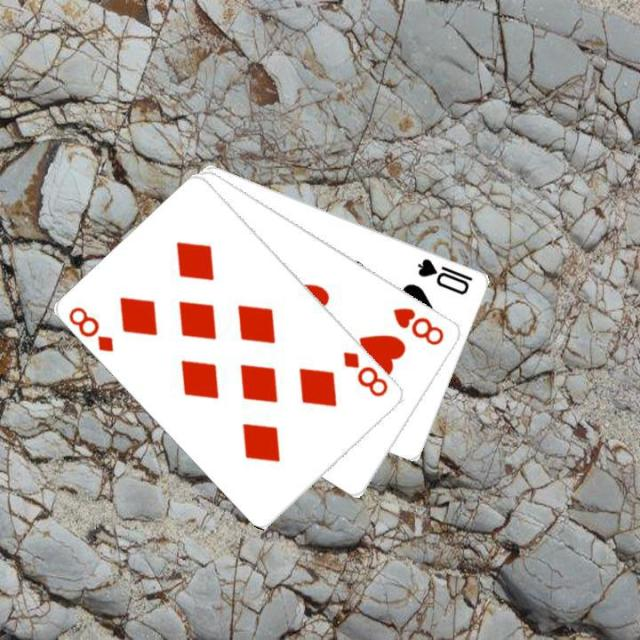10S: (414, 254, 476, 297)
8D: (339, 348, 391, 399), (65, 302, 116, 354)
8H: (389, 303, 447, 348)
